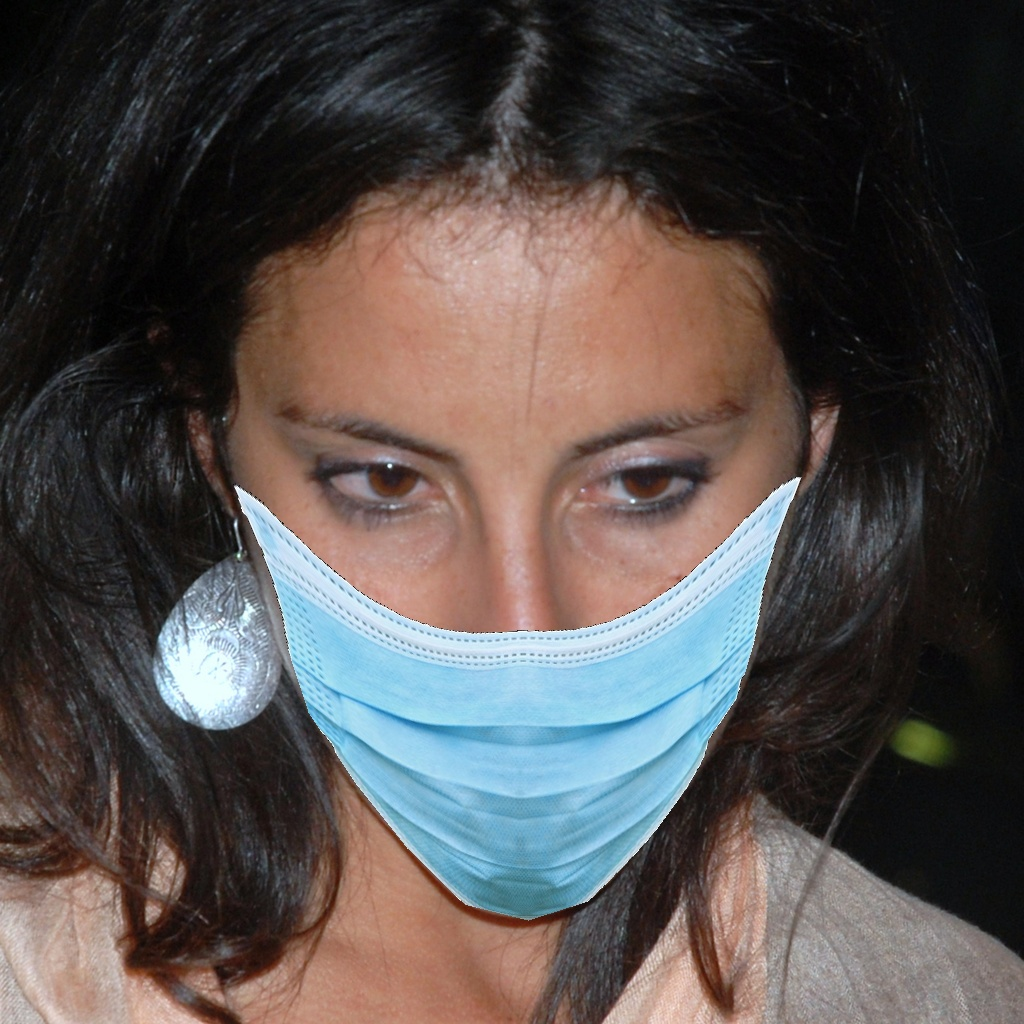Mask: (230, 357, 814, 930)
